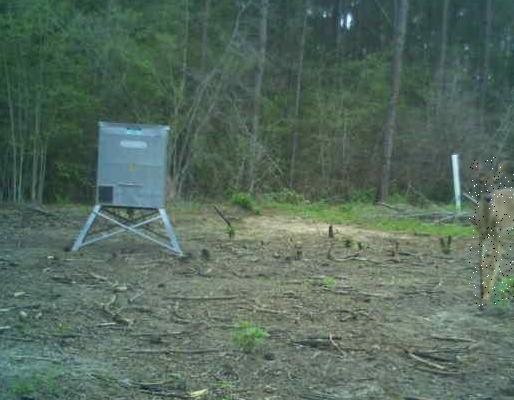Deer: (469, 157, 514, 306)
